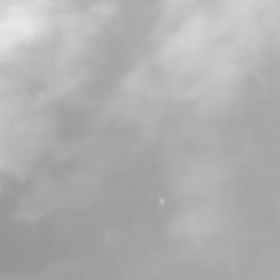Target: (159, 199, 164, 202)
